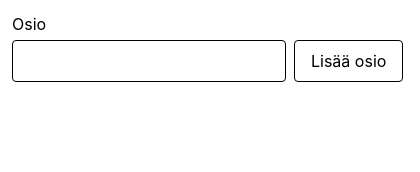
Test: FieldForm › shows the page's value again after adding, with its own button
This screenshot has width=420, height=172.
Type "Kuljetus" into the field labelled "Osio".
click(149, 61); type("Kuljetus")  # box [12, 40, 286, 82]
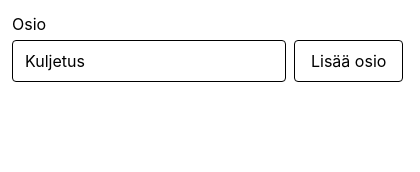
Click the button "Lisää osio".
click(349, 61)  # box [294, 40, 403, 82]
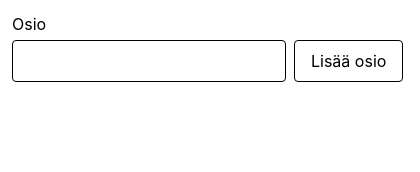
Expected: the field labelled "Osio" is empty, [12, 40, 286, 82]
